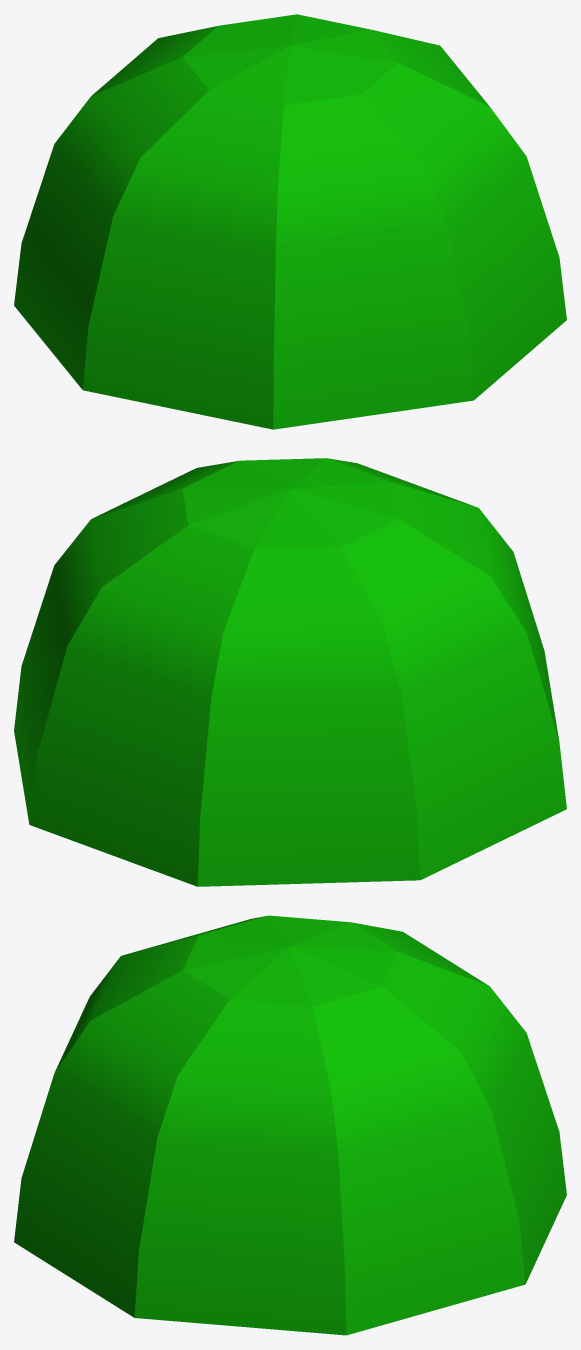
Rendered from Bush1.glb.
3 views of the same model, one above another, from view 1: azimuth 30°, elevation 25°; view 2: azimuth 150°, elevation 25°; view 3: azimuth 270°, elevation 25° (orthographic). The views are drawn at different scales.
Parts seen in each view (by area): view 1: Bush1; view 2: Bush1; view 3: Bush1.
Part boxes in pixels (x1,y1,x2,y2): Bush1: [14, 14, 566, 429]; Bush1: [14, 458, 566, 886]; Bush1: [14, 915, 566, 1335].
Size of the model in its own units: 0.6668 by 0.362 by 0.6668.
